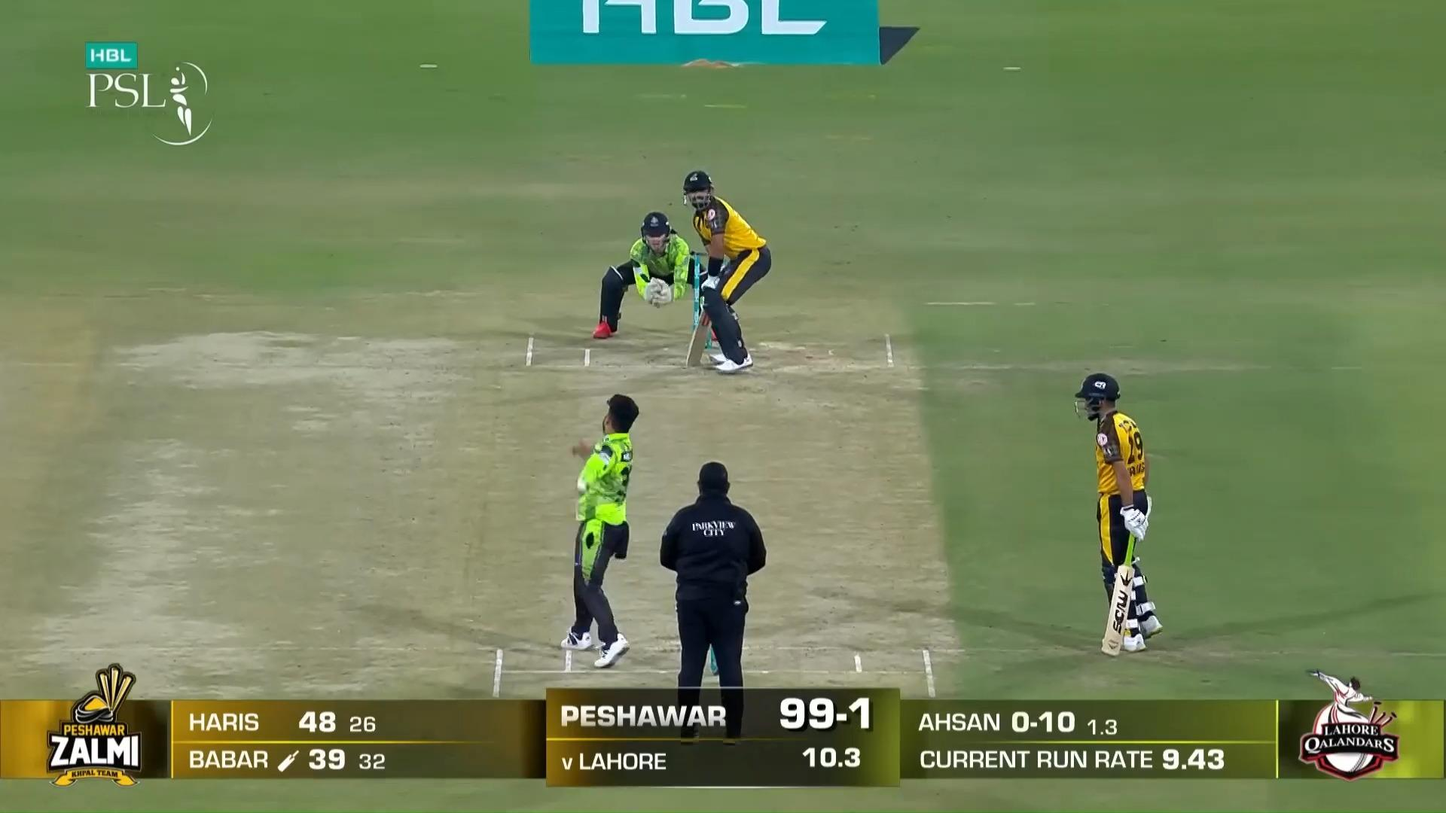batsman: (683, 171, 771, 374)
